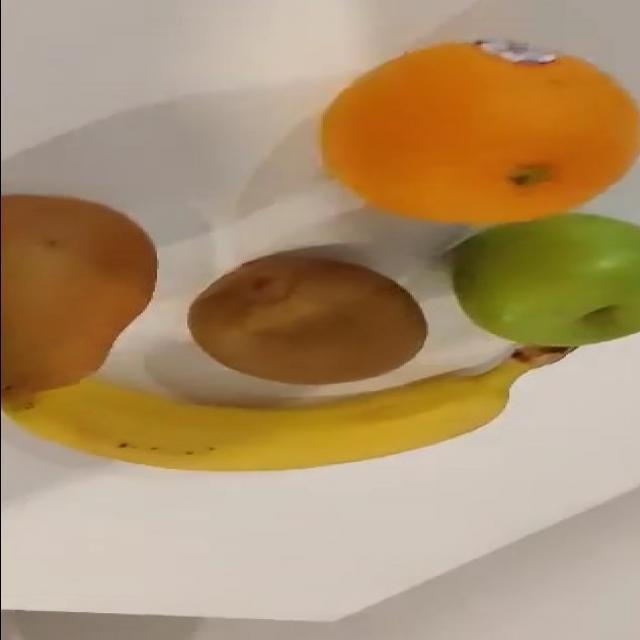Apple: (417, 195, 640, 359)
Banana: (0, 327, 578, 499)
Orange: (318, 37, 639, 226)
